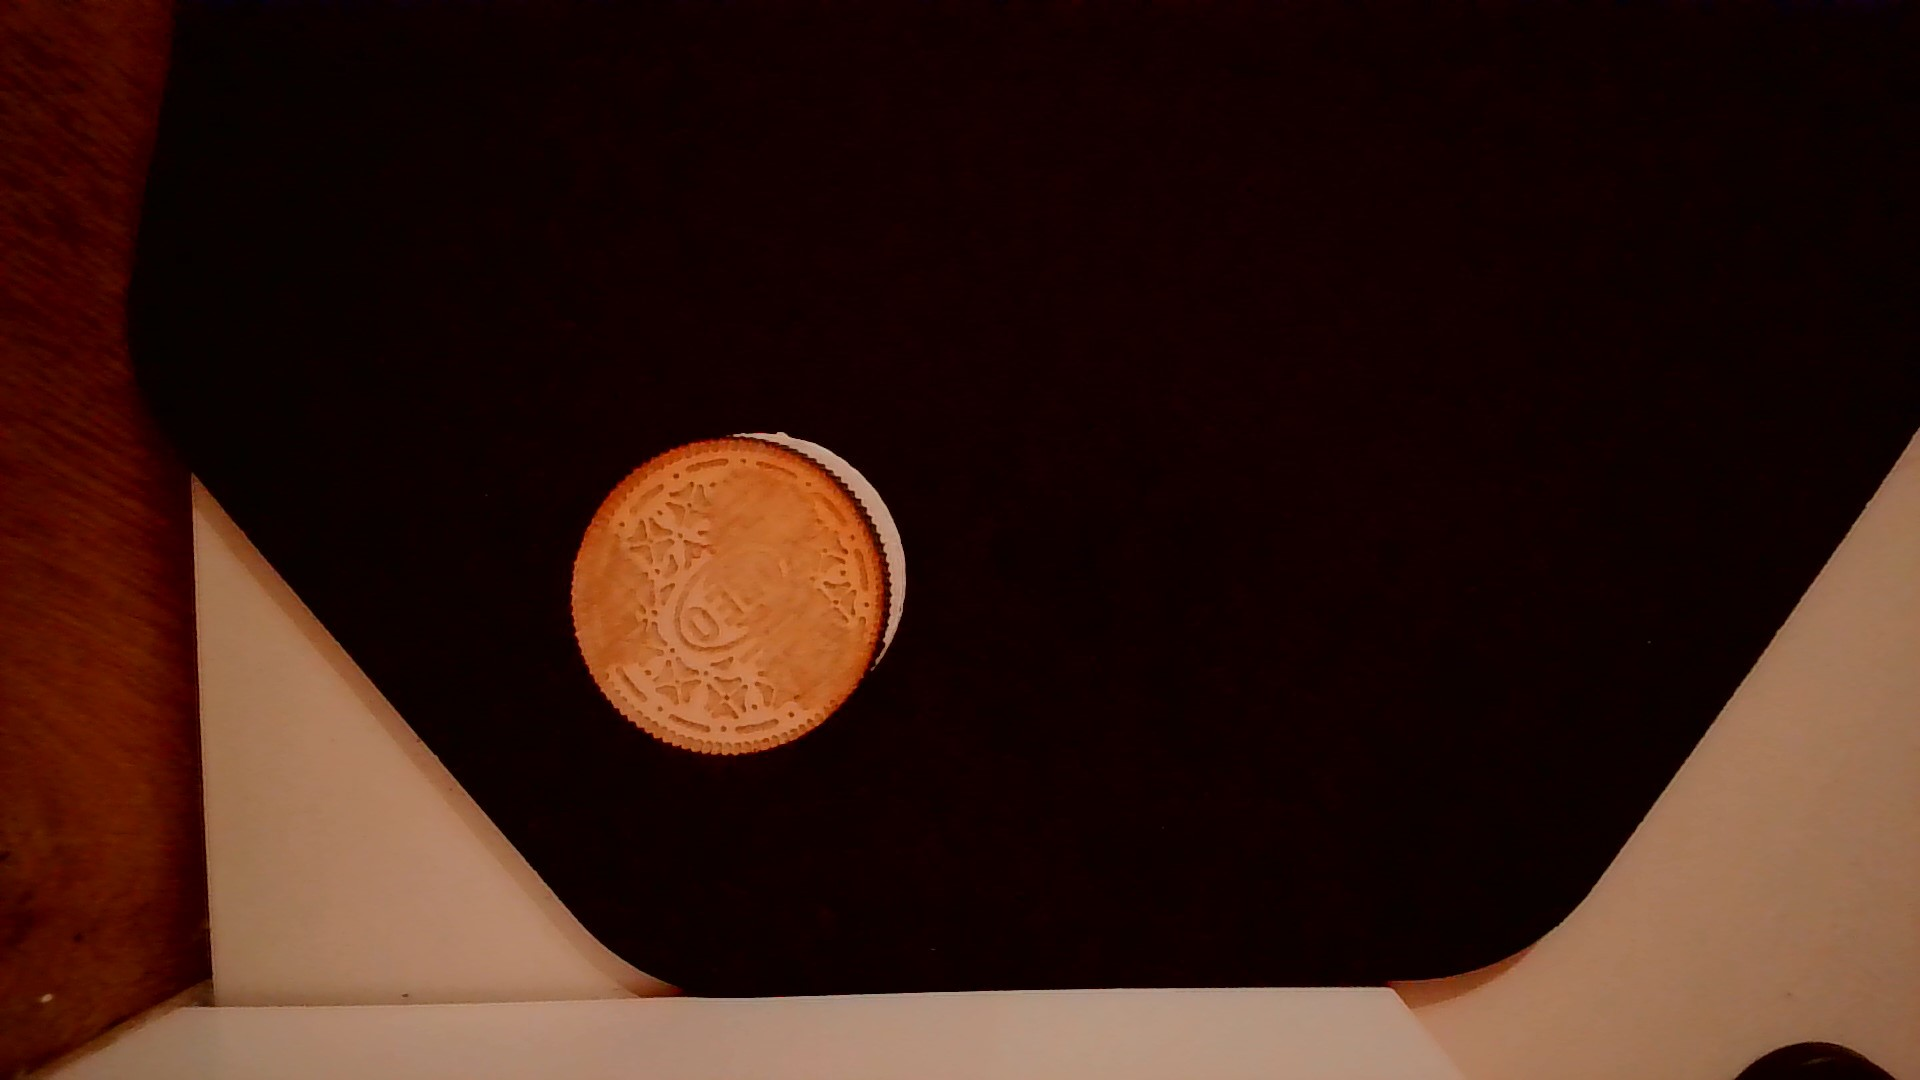Décalé: (723, 419, 911, 671)
Effacé: (705, 479, 839, 702), (574, 527, 655, 671)
Oréo: (564, 429, 915, 760)
